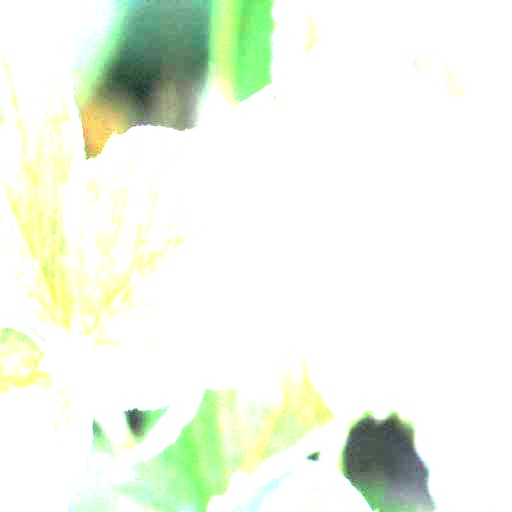Powdery Mildew Leaf: (43, 83, 351, 411), (0, 315, 94, 511)
